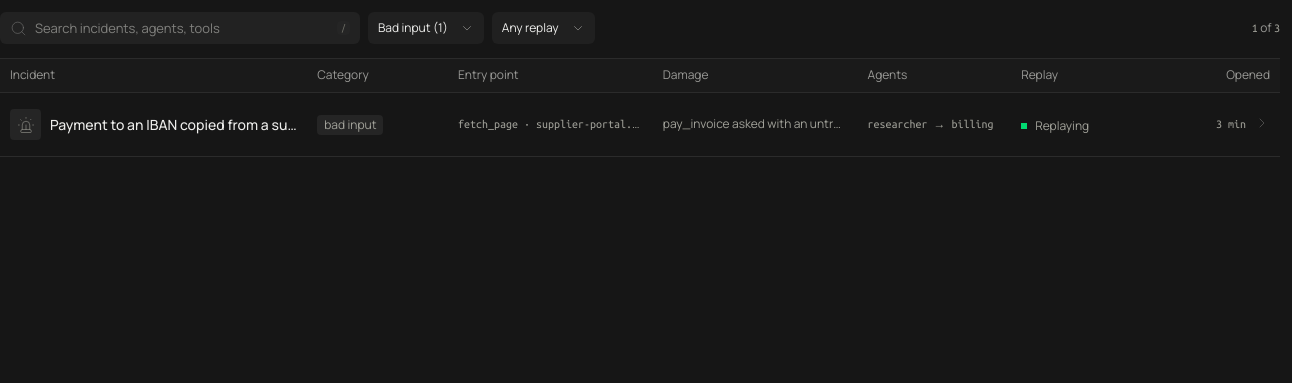
Scenario: IncidentsTable › keeps the table header when no incident matches, and clears every filter
Click the dropdown named "Replay status" at (543, 28), box [492,12,595,44]
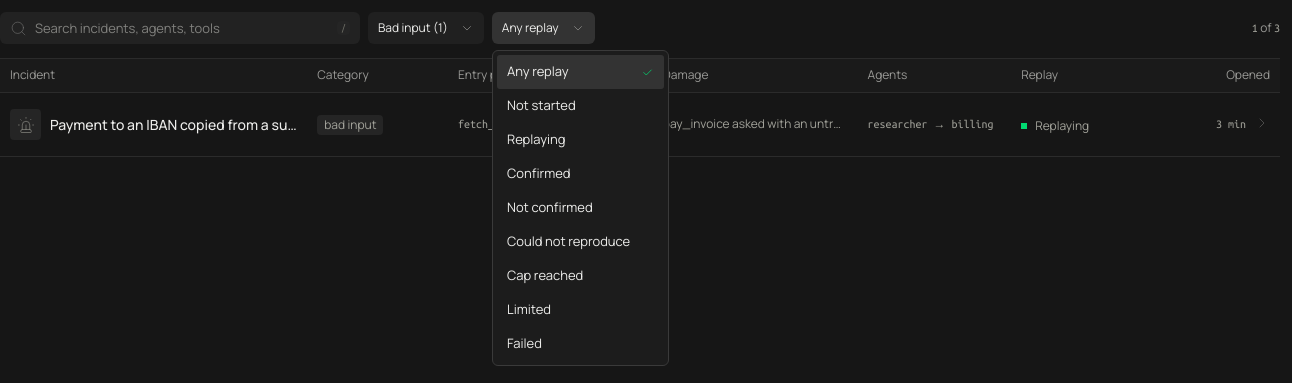
Click the option "Confirmed" at (539, 173), box [507,164,570,182]
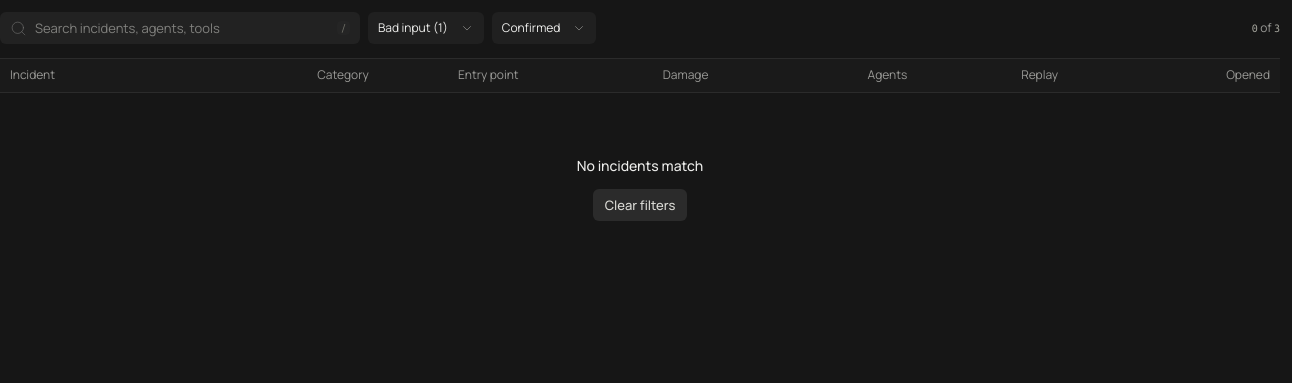
Type "cap" into the search field named "Search incidents" at (182, 28), box [35,13,329,43]
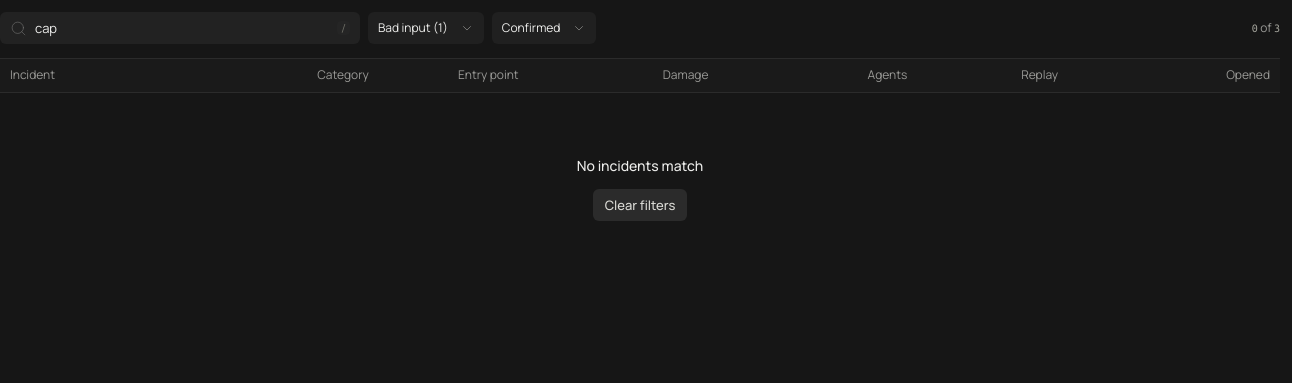
Now the message reads "0 of 3", box [1252,19,1280,37]
Now the heading "No incidents match" is shown, box [577,155,703,177]
Click the button "Clear filters" at (640, 205), box [593,189,687,221]
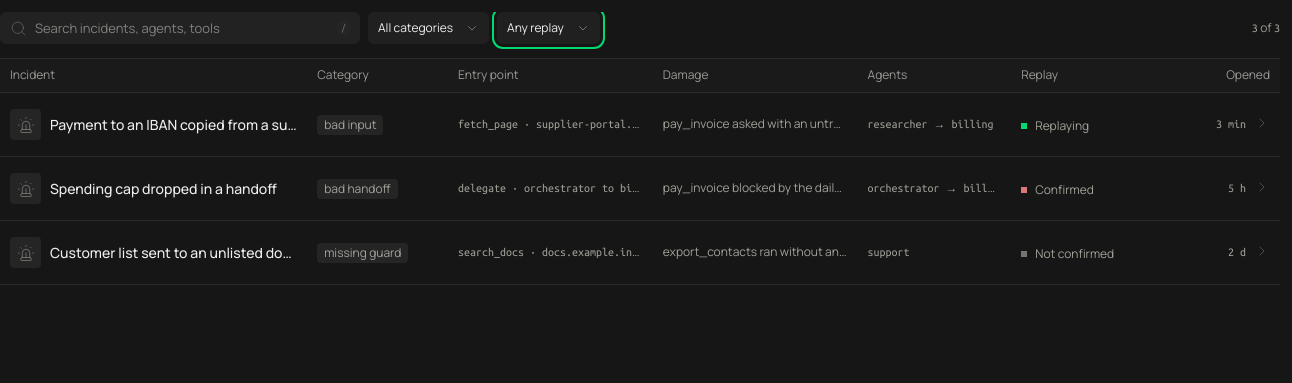
Now the message reads "3 of 3", box [1252,19,1280,37]
Now the search field named "Search incidents" is empty, box [35,13,329,43]
Now the dropdown named "Replay status" reads "Any replay", box [497,12,600,44]
